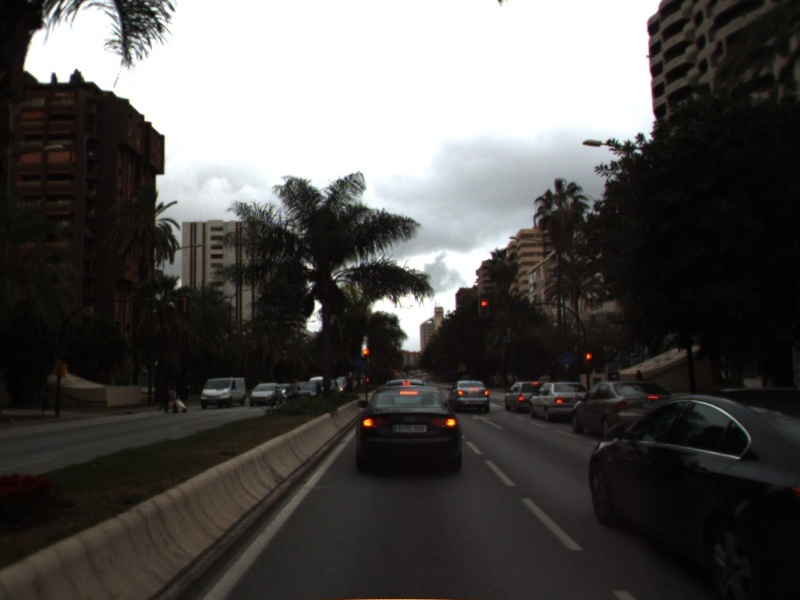STRAIGHT: (470, 412, 505, 431)
